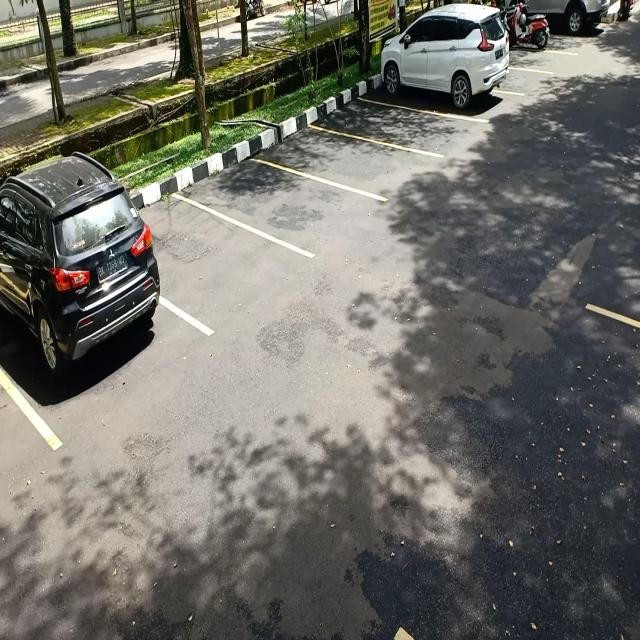empty: (158, 193, 260, 337), (245, 162, 336, 256), (308, 123, 392, 202), (356, 98, 448, 156)
occupied: (0, 210, 169, 420), (379, 32, 512, 122)
